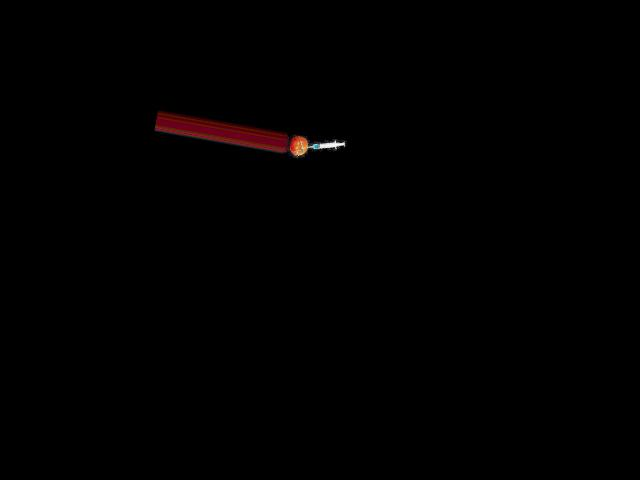tomato: (288, 134, 309, 157)
